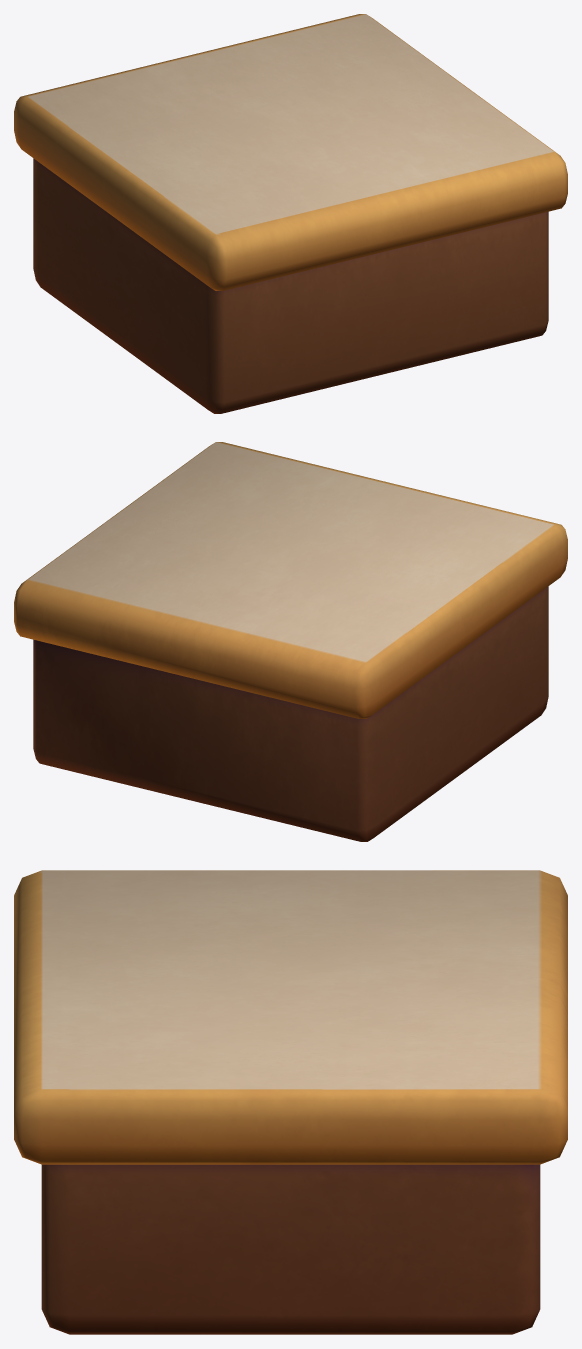
File: smalltable.obj
3 renders of one model, top to bottom at view 1: azimuth 30°, elevation 25°; view 2: azimuth 150°, elevation 25°; view 3: azimuth 270°, elevation 25°, orthographic. The views are drawn at different scales.
Parts seen in each view (by area): view 1: DeliveryCounter.Base; view 2: DeliveryCounter.Base; view 3: DeliveryCounter.Base.
Boxes of the visible parts, x1,y1,x2,y2 form: DeliveryCounter.Base: [14, 14, 567, 413]; DeliveryCounter.Base: [14, 442, 567, 841]; DeliveryCounter.Base: [14, 870, 567, 1334].
Size of the model in its own units: 1.34 by 0.6826 by 1.37.
Materials: 1 (1 with a texture image).
